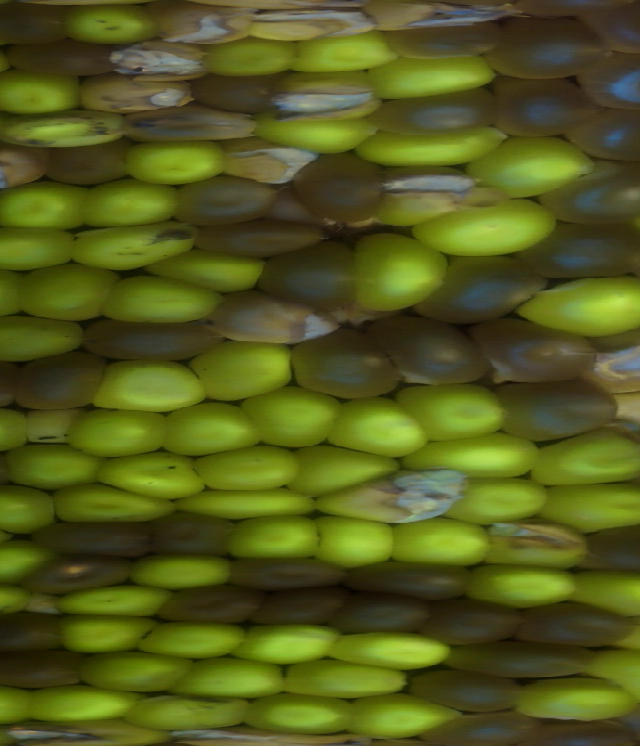fluorescent: (308, 463, 478, 528), (410, 193, 560, 261), (463, 130, 600, 203), (349, 224, 451, 318), (393, 376, 516, 448), (515, 271, 640, 340), (367, 160, 483, 233), (396, 428, 547, 484), (86, 354, 214, 419), (275, 439, 407, 501), (185, 336, 300, 407), (236, 383, 346, 457), (62, 219, 202, 276), (320, 392, 435, 461), (155, 394, 269, 463), (348, 123, 515, 170), (9, 259, 125, 324), (528, 424, 640, 491), (96, 271, 229, 327), (265, 65, 385, 127), (44, 477, 186, 529), (477, 515, 596, 577), (507, 671, 640, 726), (249, 104, 384, 158), (362, 50, 499, 103), (340, 689, 469, 745), (92, 444, 210, 505), (0, 103, 138, 153), (442, 472, 557, 531), (166, 651, 293, 704), (189, 439, 307, 496), (461, 559, 585, 613), (25, 678, 158, 728), (121, 689, 258, 737), (60, 404, 175, 461), (225, 616, 348, 669), (143, 247, 273, 297), (382, 516, 499, 571), (327, 625, 458, 674), (72, 648, 198, 698), (219, 511, 332, 566), (277, 656, 412, 702), (77, 175, 185, 232), (284, 24, 399, 77), (536, 479, 640, 537), (118, 134, 232, 186), (169, 484, 324, 522), (51, 610, 164, 662), (304, 511, 400, 572), (53, 579, 179, 624), (136, 618, 256, 665), (1, 440, 107, 493), (0, 306, 90, 367), (242, 690, 361, 736), (196, 29, 305, 79), (57, 1, 168, 50), (0, 176, 94, 233), (126, 548, 237, 594), (0, 63, 86, 118), (0, 219, 81, 276), (568, 564, 640, 626), (580, 645, 640, 711), (19, 403, 94, 451), (0, 479, 59, 538), (0, 538, 58, 587), (0, 677, 50, 728), (609, 607, 640, 669), (0, 404, 34, 458), (0, 574, 34, 621)
nonfluorescent: (356, 309, 501, 391), (458, 313, 611, 387), (410, 247, 549, 326), (290, 323, 405, 403), (201, 285, 343, 349), (481, 18, 618, 83), (487, 70, 605, 145), (492, 376, 624, 443), (514, 217, 640, 287), (252, 236, 361, 315), (535, 153, 640, 233), (438, 635, 606, 685), (364, 84, 506, 142), (79, 314, 228, 368), (290, 148, 389, 228), (506, 595, 640, 652), (165, 169, 282, 232), (8, 346, 110, 416), (113, 100, 260, 148), (23, 514, 161, 565), (339, 556, 482, 605), (17, 549, 143, 601), (185, 215, 325, 261), (411, 596, 530, 650), (405, 665, 530, 716), (77, 71, 204, 121), (140, 1, 261, 53), (240, 1, 378, 46), (214, 133, 320, 190), (109, 34, 222, 86), (0, 34, 123, 81), (380, 18, 510, 62), (36, 134, 140, 189), (226, 553, 353, 597), (323, 591, 439, 639), (246, 581, 351, 634), (154, 581, 266, 629), (146, 506, 242, 561), (356, 1, 518, 33), (186, 70, 296, 117), (406, 708, 541, 746), (573, 45, 640, 118), (564, 101, 640, 163), (587, 313, 640, 398), (570, 519, 640, 582), (253, 180, 329, 234), (0, 646, 89, 691), (571, 1, 640, 58), (0, 1, 77, 52), (0, 608, 69, 660), (522, 717, 640, 746), (0, 138, 53, 196), (599, 384, 640, 437), (609, 705, 640, 745)
